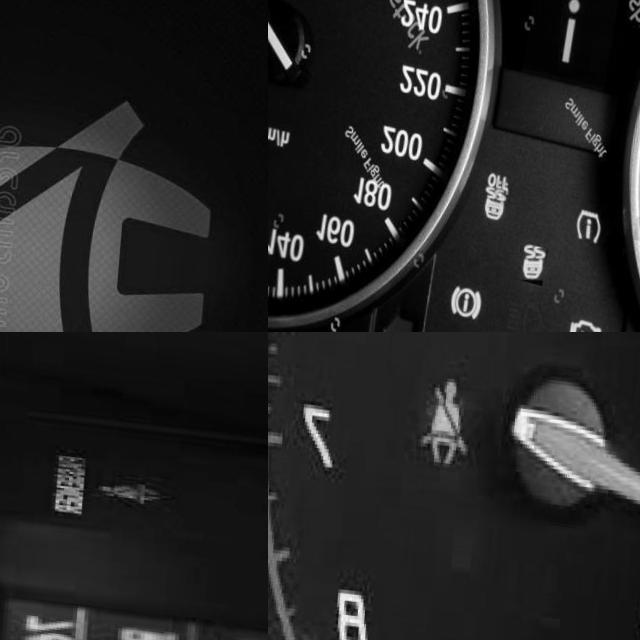Seat Belt: (0, 59, 222, 332), (426, 367, 476, 460), (105, 468, 170, 499)
